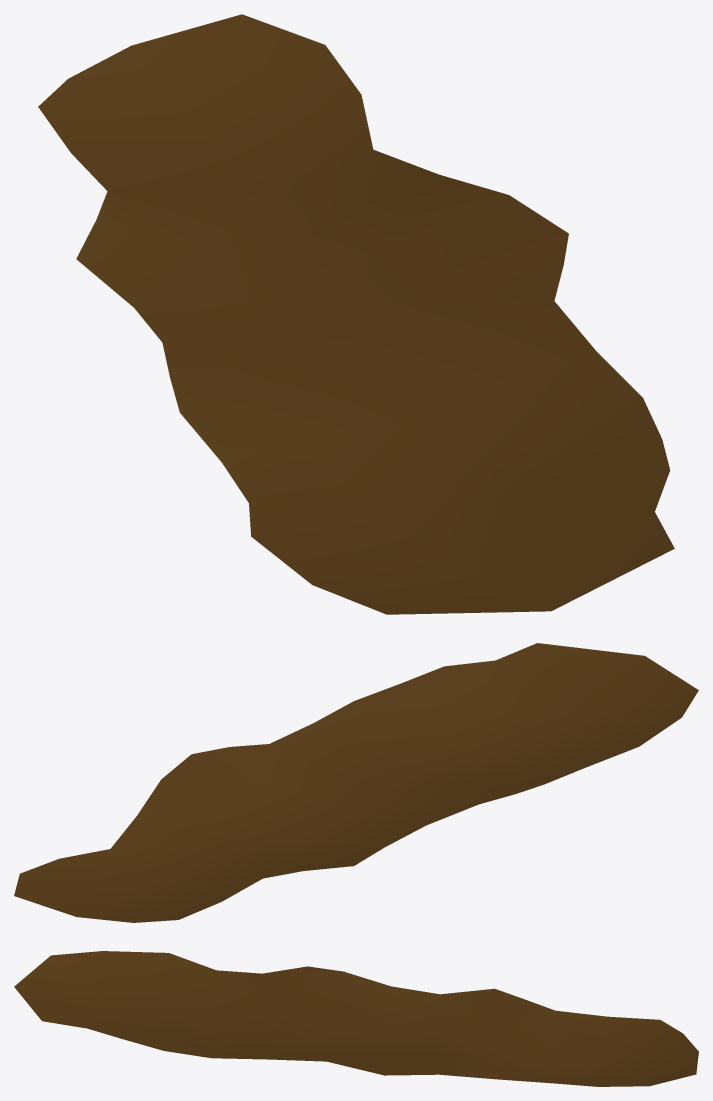
The model's file is SmallMud.FBX.
3 renders of one model, top to bottom at view 1: azimuth 30°, elevation 25°; view 2: azimuth 150°, elevation 25°; view 3: azimuth 270°, elevation 25°, orthographic. The views are drawn at different scales.
Visible parts, largest first — view 1: SmallMud; view 2: SmallMud; view 3: SmallMud.
Part boxes in pixels (x1,y1,x2,y2): SmallMud: [38, 14, 674, 614]; SmallMud: [14, 643, 698, 922]; SmallMud: [14, 951, 698, 1086].
Size of the model in its own units: 3110 by 244 by 6585.
